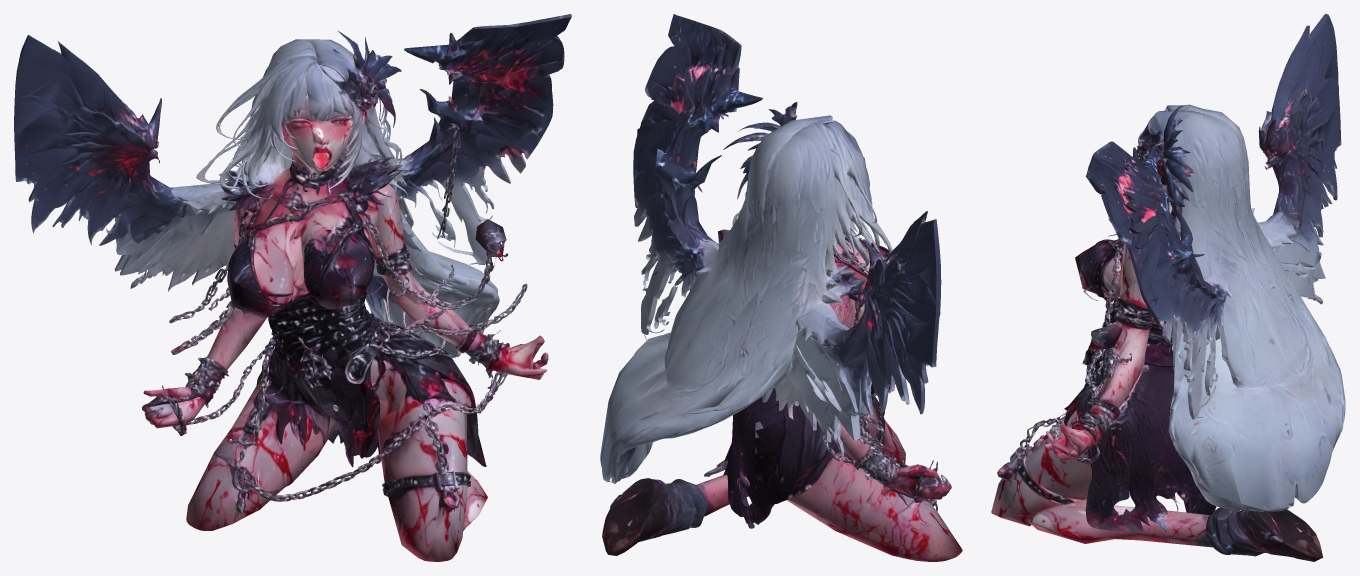
The picture shows the model from 3 angles, left to right: view 1: azimuth 30°, elevation 25°; view 2: azimuth 150°, elevation 25°; view 3: azimuth 270°, elevation 25°; orthographic projection. The views are drawn at different scales.
Visible parts, largest first — view 1: model; view 2: model; view 3: model.
Part boxes in pixels (box(x1,y1,x2,y2)): model: box(14, 14, 571, 561); model: box(600, 14, 962, 561); model: box(991, 14, 1345, 561).
Bounding box in the file's own units: 1.84 × 1.9 × 1.47.
1 material, 1 textured.
